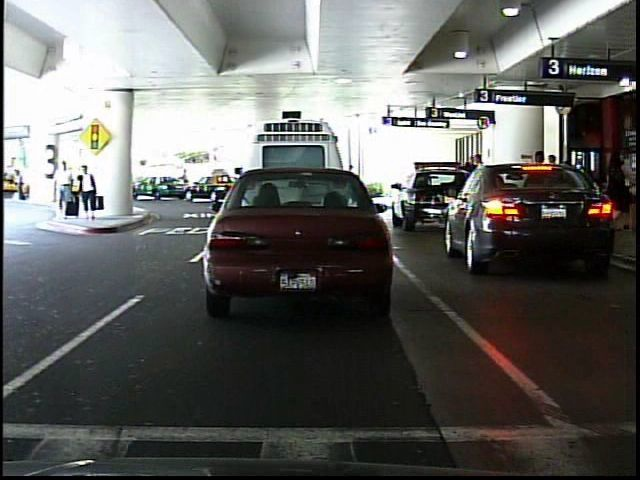person: (76, 160, 100, 223), (56, 157, 79, 218), (341, 158, 363, 199), (176, 165, 195, 197), (15, 166, 30, 205)
